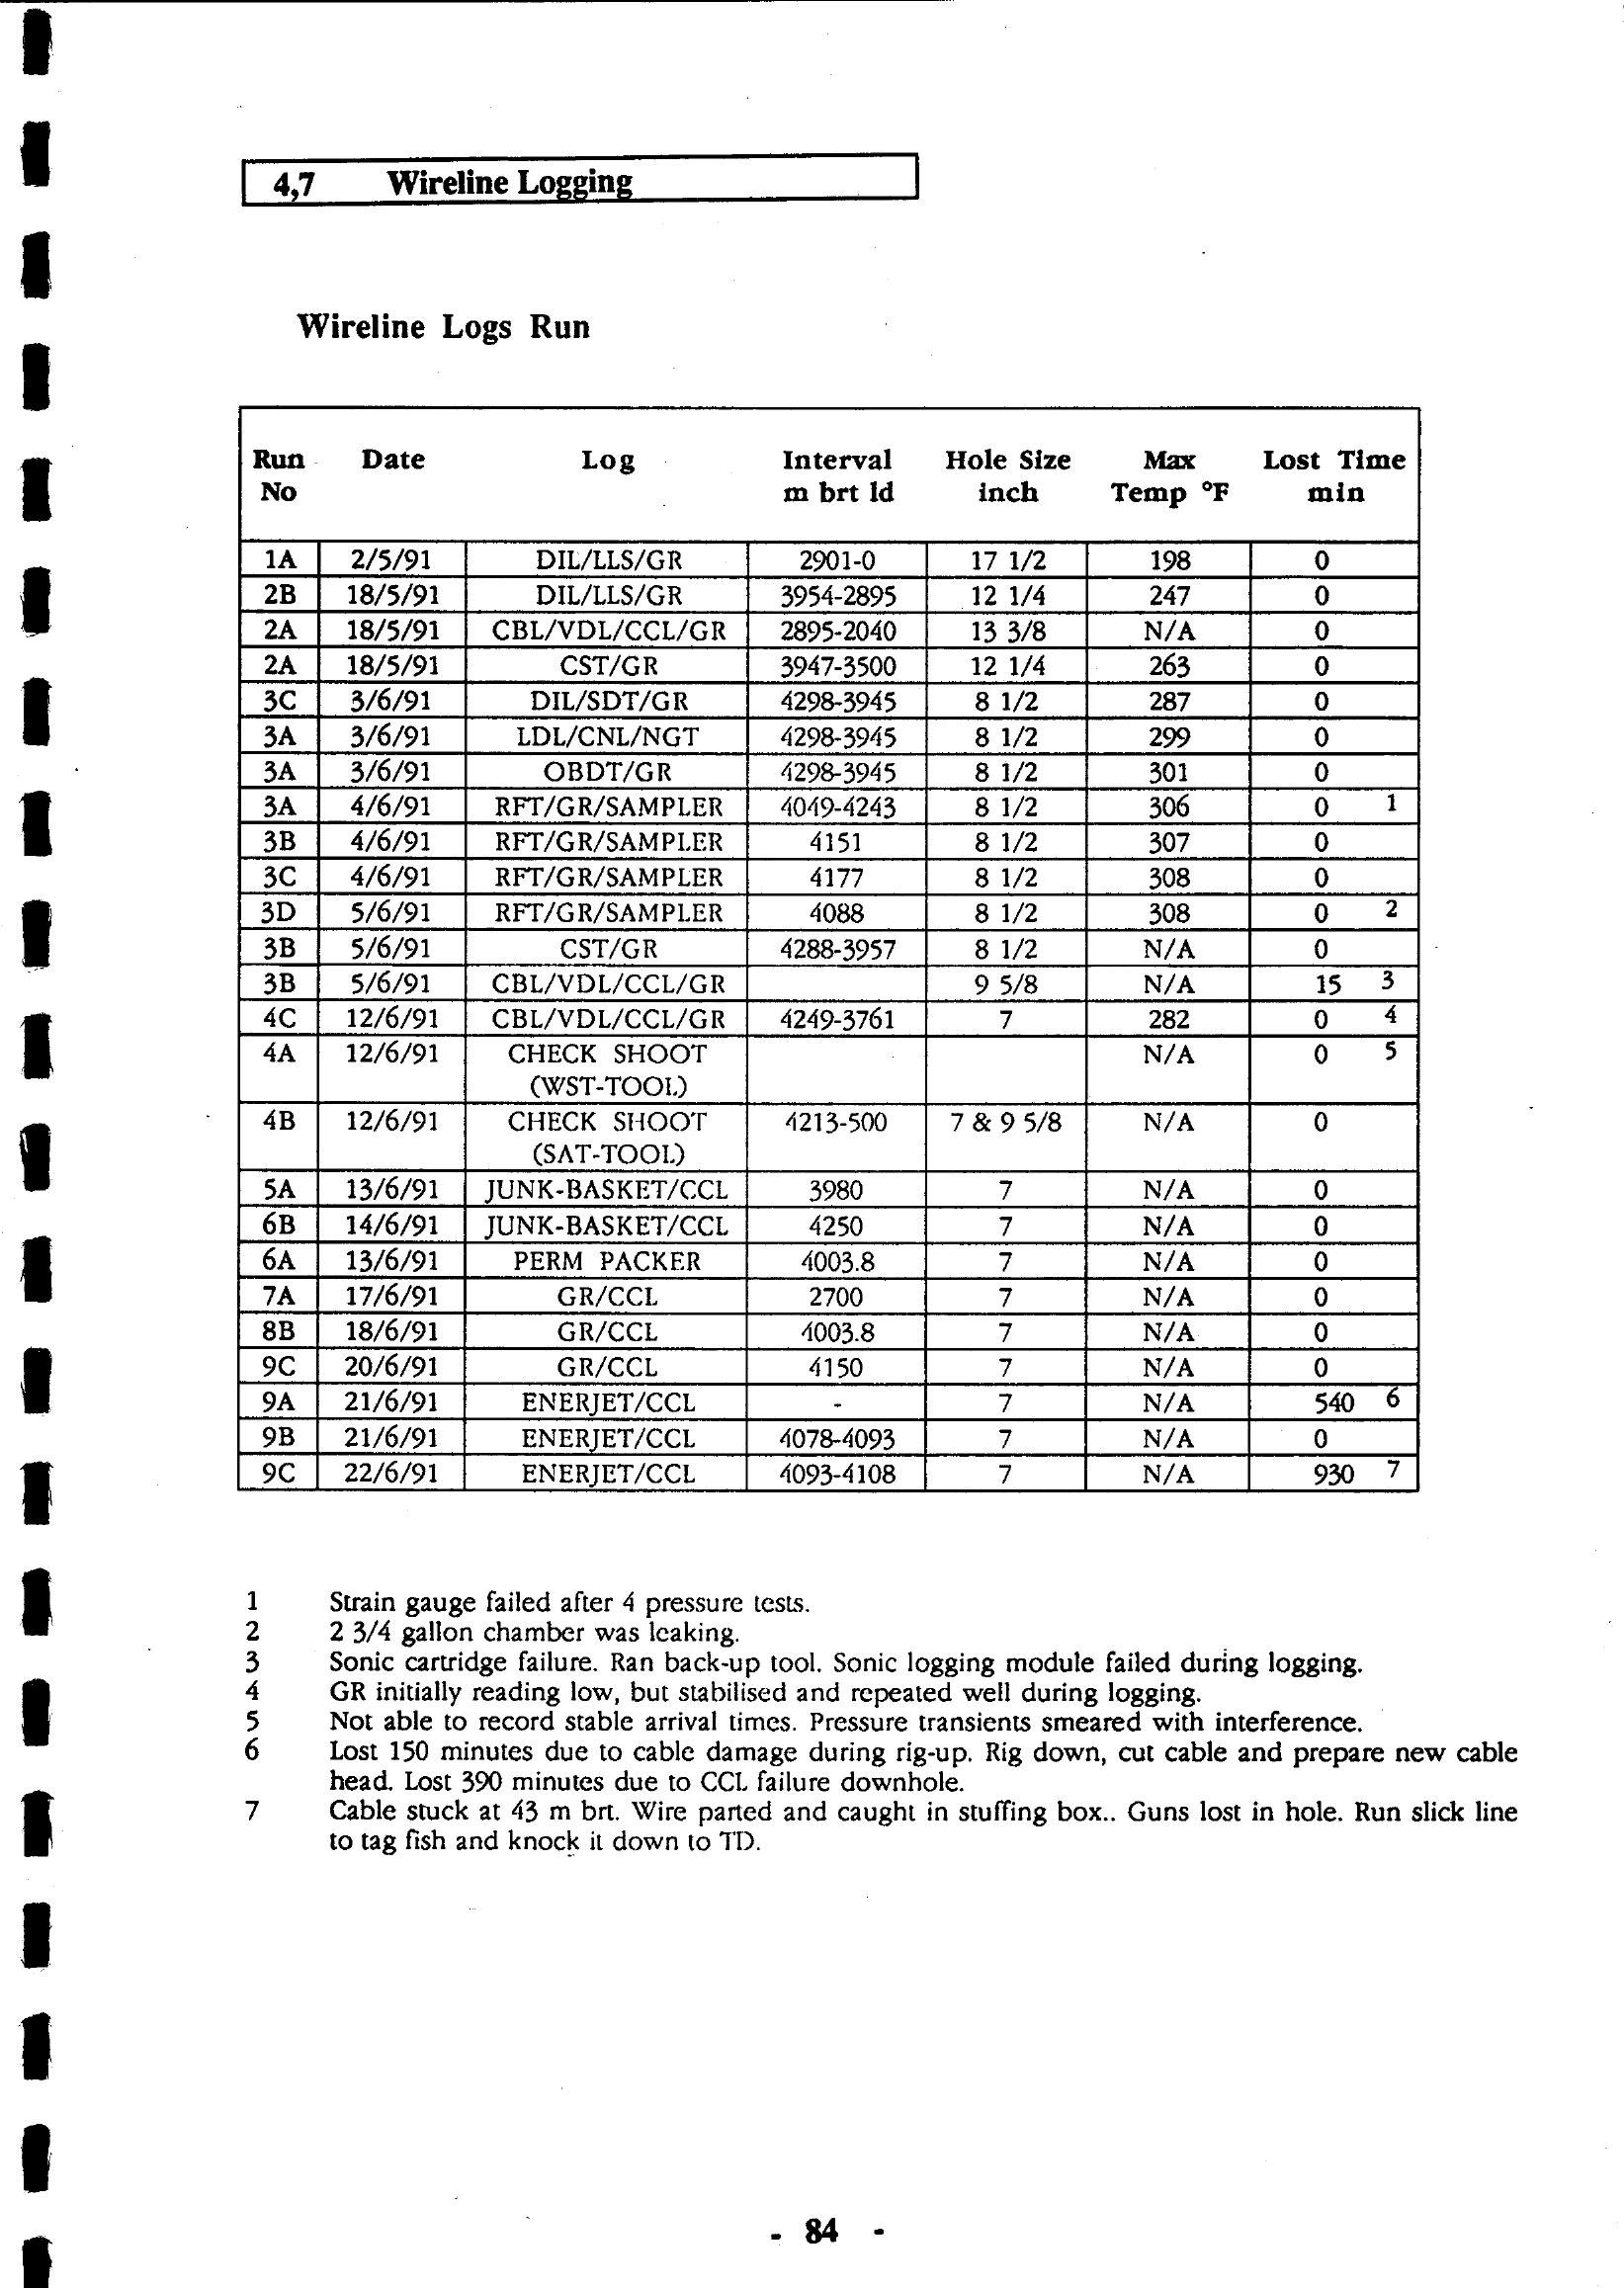table: (209, 283, 1459, 1539)
text: (213, 1569, 1547, 1894), (213, 153, 965, 220)
